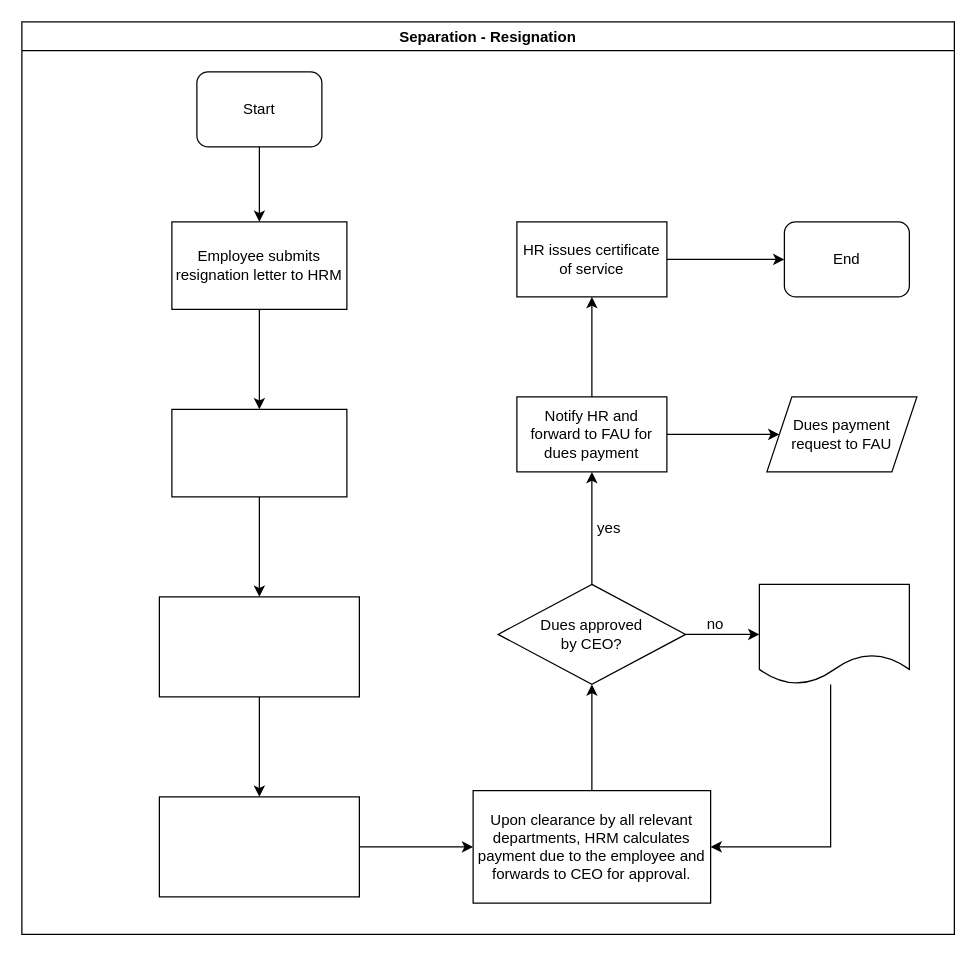
The diagram is 976 pixels wide and 956 high, and some of its shapes have lost their labels. The box of each missing label's shape, as (x1, y1, x2, y2) in pixels:
Comments: (758, 583, 909, 684)
Follow up with all relevant departments for clearance and create handover notes: (158, 796, 359, 897)
HRM acknowledges the resignation and prompts employee to start clearance process: (158, 596, 359, 697)
HRM notifies the respective HOD: (171, 408, 347, 497)
